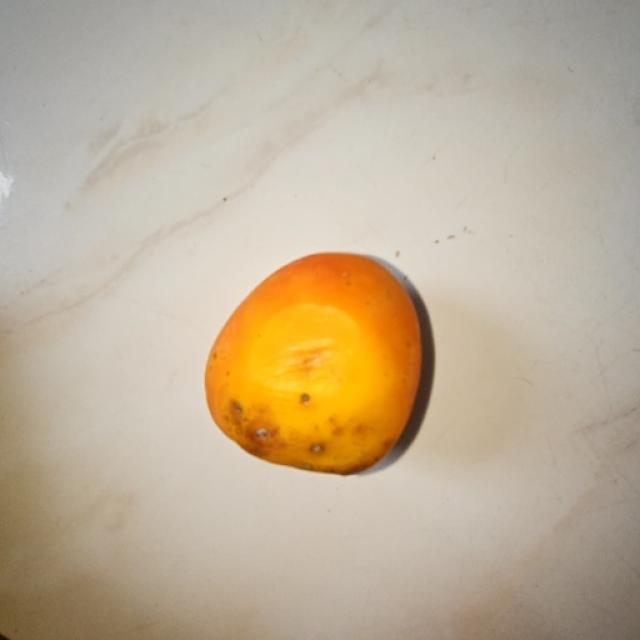Red: (203, 250, 425, 476)
